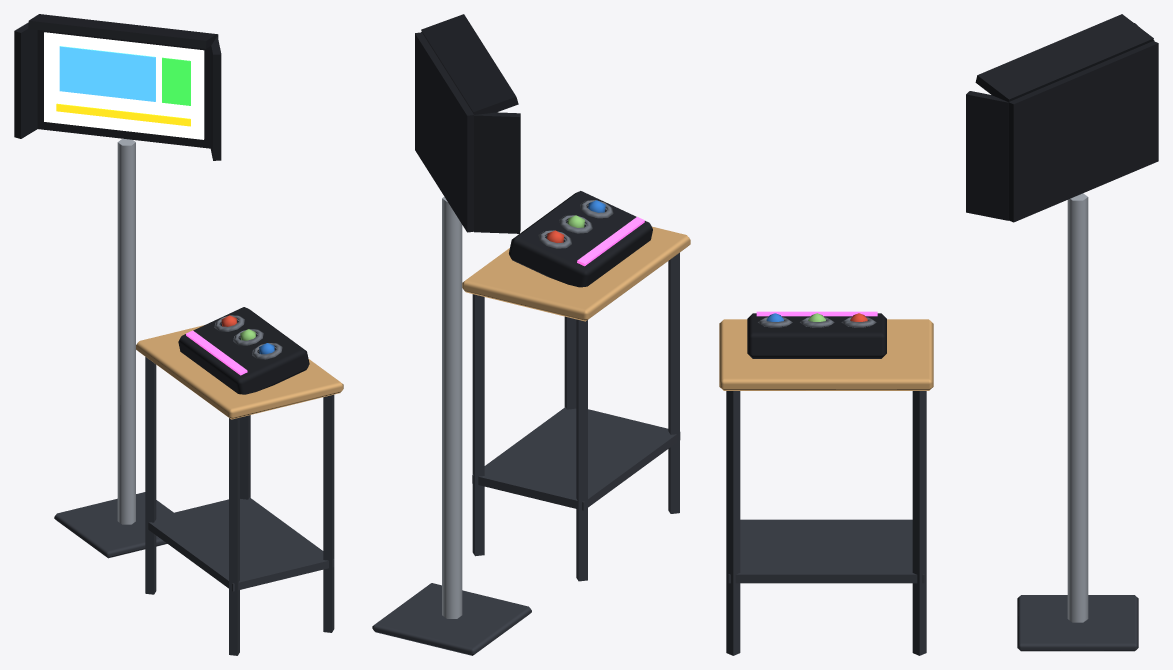
Rendered from station_processing_ausstattung_3_2.glb.
3 views of the same model, side by side, from view 1: azimuth 30°, elevation 25°; view 2: azimuth 150°, elevation 25°; view 3: azimuth 270°, elevation 25° (orthographic). The views are drawn at different scales.
Parts seen in each view (by area): view 1: station_processing_ausstattung_3_2; view 2: station_processing_ausstattung_3_2; view 3: station_processing_ausstattung_3_2.
Boxes of the visible parts, <box> form: station_processing_ausstattung_3_2: <box>14,14,343,655</box>; station_processing_ausstattung_3_2: <box>372,14,690,655</box>; station_processing_ausstattung_3_2: <box>719,14,1158,655</box>.
Size of the model in its own units: 0.4137 by 1.35 by 0.9432.
